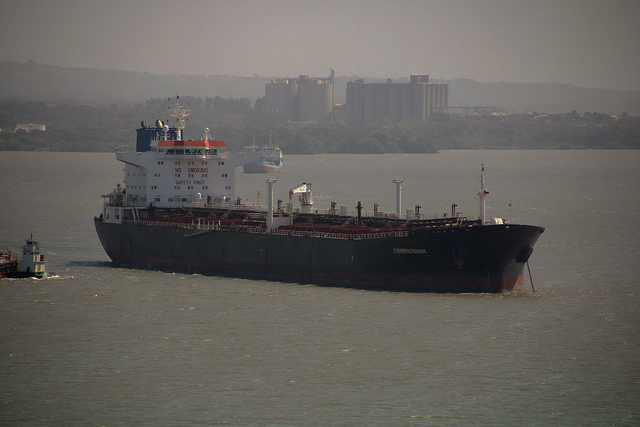bulk carrier: (91, 111, 551, 297)
